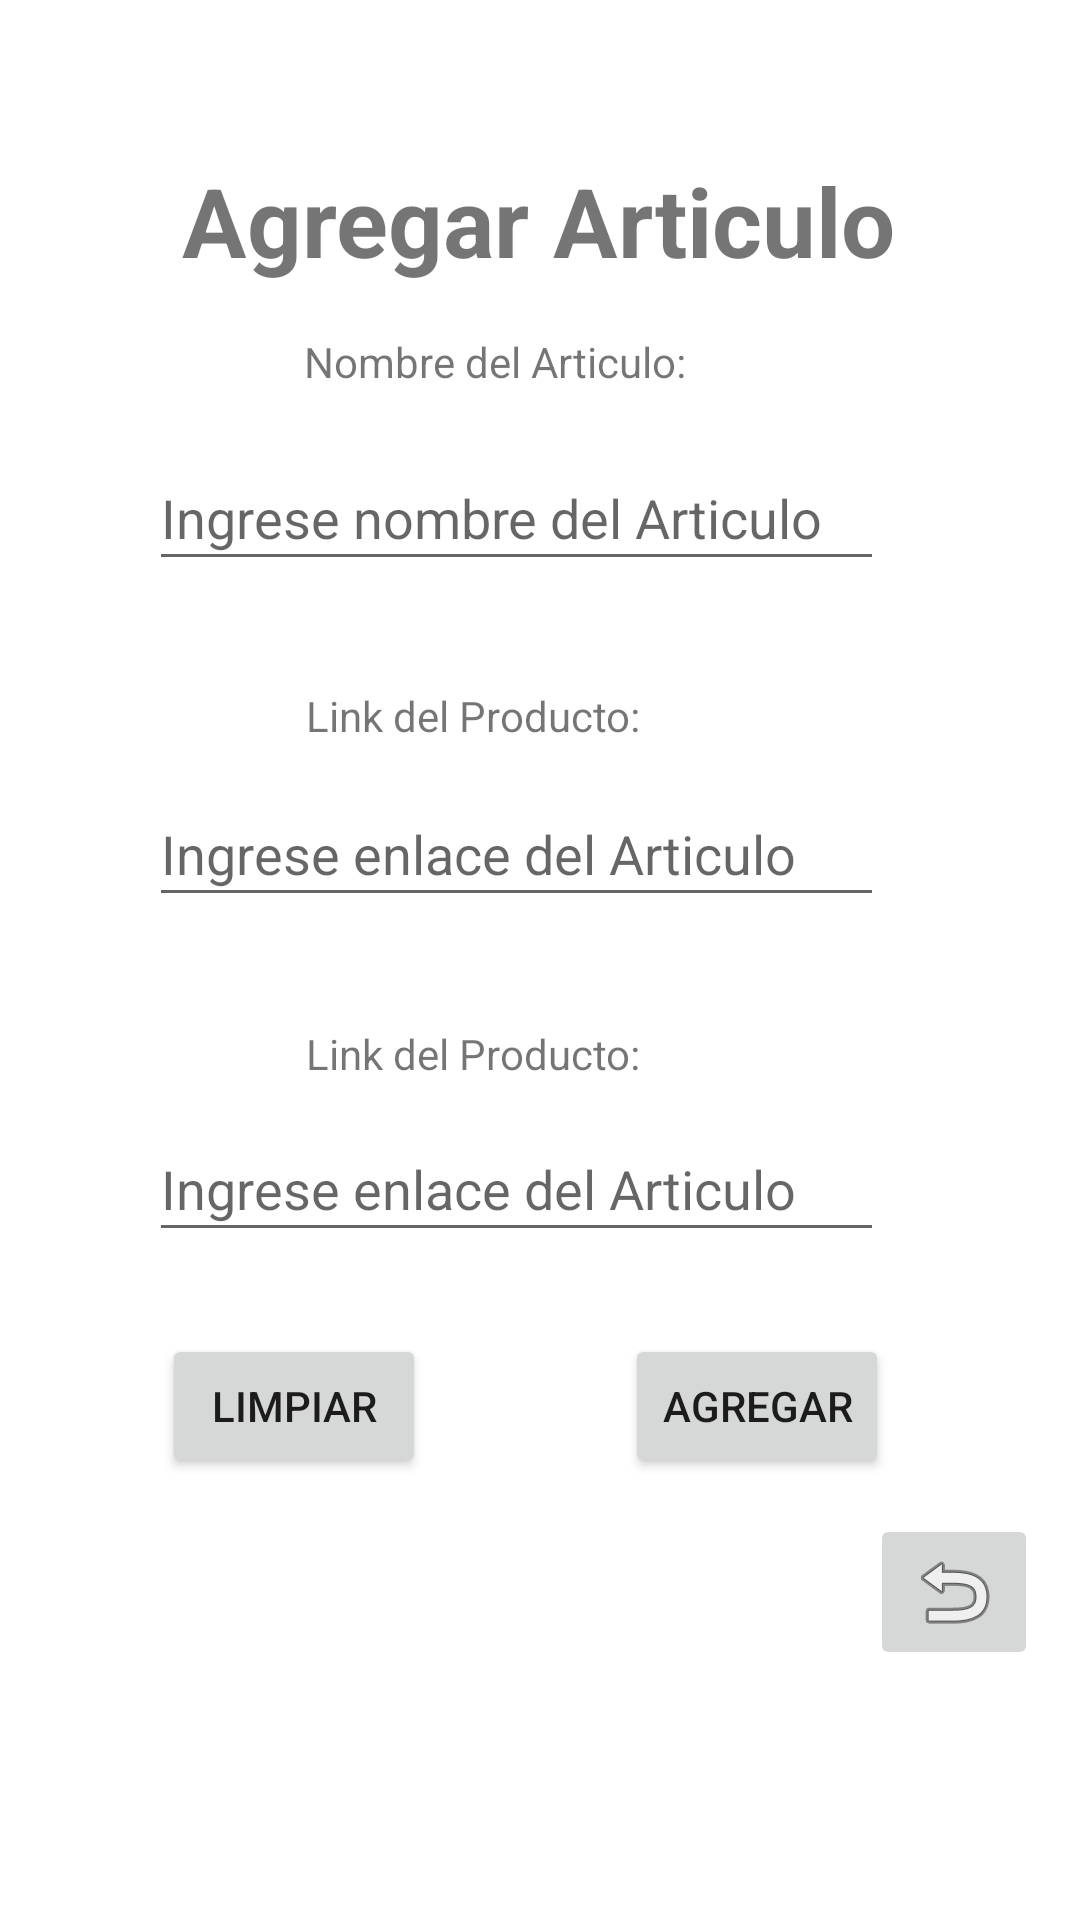

Screen size 1080w x 1920h. Icon name, then its center in pixels as point (x, y):
revert: point (954, 1592)
